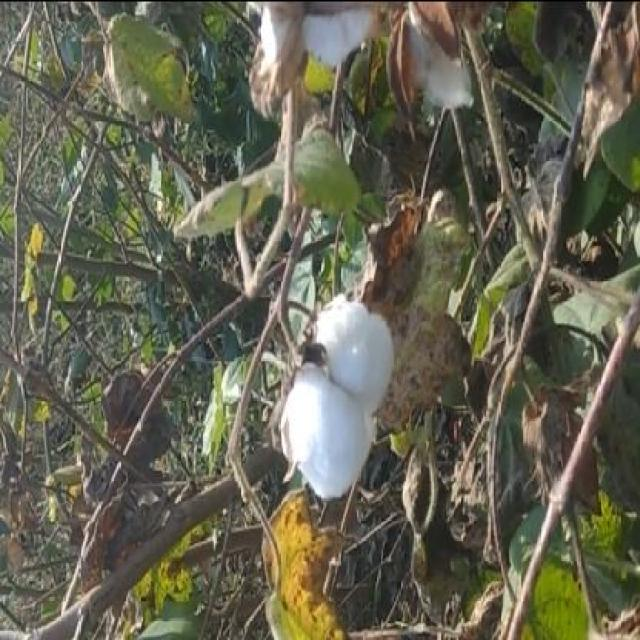cotton_ready: (266, 251, 411, 506)
